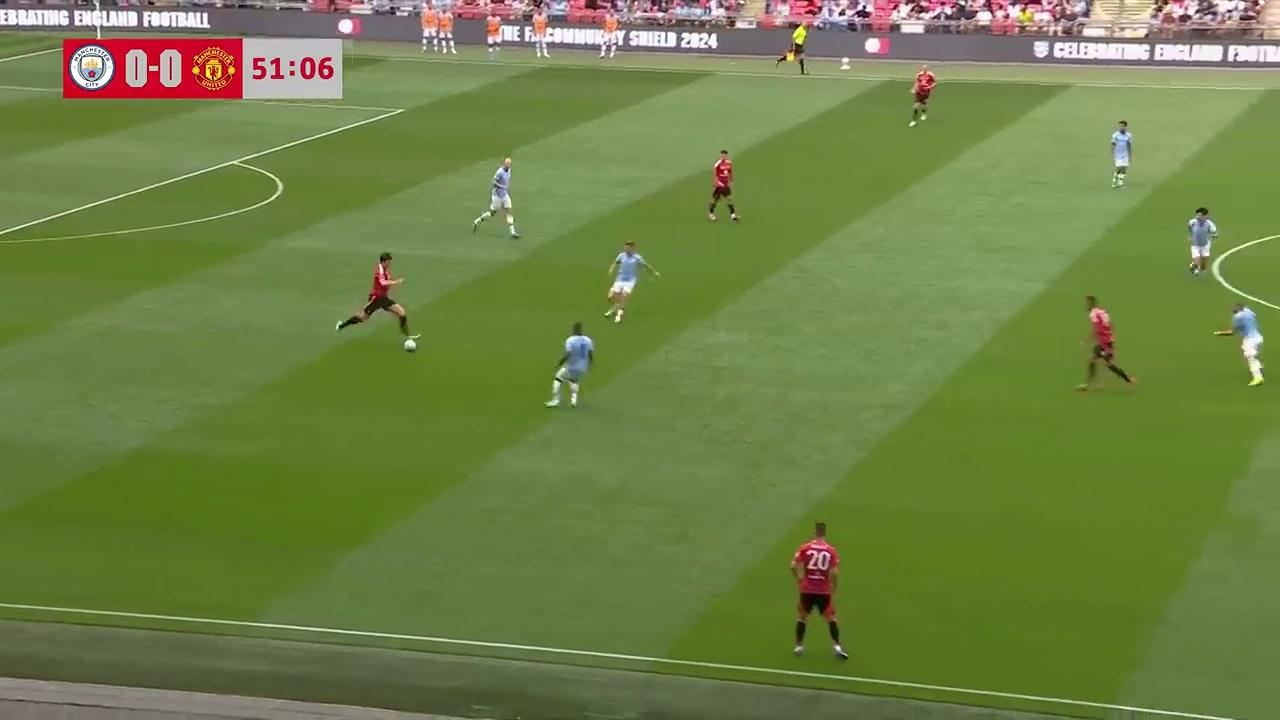ball: (403, 335, 418, 353)
player: (791, 522, 850, 662), (338, 253, 418, 351), (1074, 295, 1137, 393), (604, 240, 659, 322), (1212, 301, 1265, 386), (543, 320, 594, 408), (471, 157, 521, 239), (707, 149, 739, 223), (1186, 206, 1218, 278), (908, 64, 936, 126), (1110, 119, 1132, 189)
referee: (778, 22, 809, 76)
